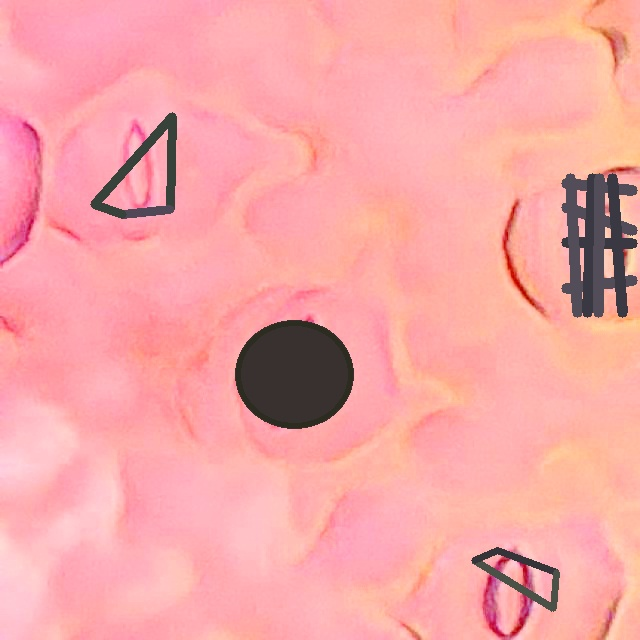open: (235, 320, 353, 429), (561, 173, 636, 317), (90, 113, 174, 218), (471, 547, 558, 610)
